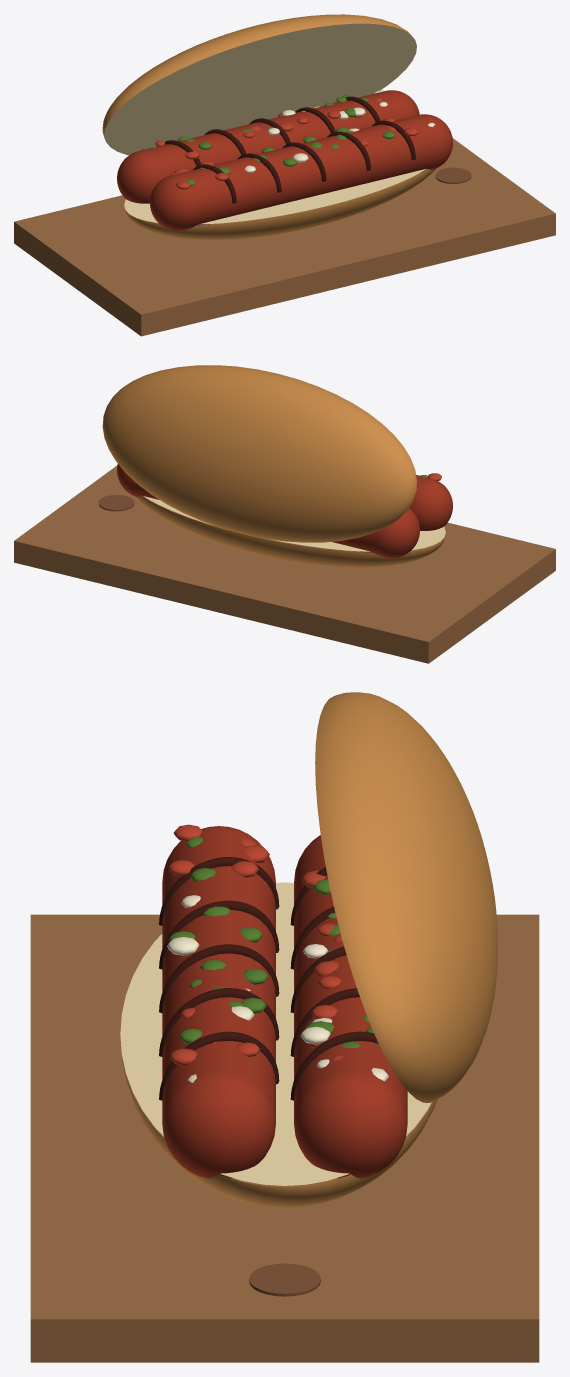
The model's file is chori-doble.glb.
3 renders of one model, top to bottom at view 1: azimuth 30°, elevation 25°; view 2: azimuth 150°, elevation 25°; view 3: azimuth 270°, elevation 25°, orthographic. The views are drawn at different scales.
Visible parts, largest first — view 1: tabla, chorizo (×2), object 6, object 3, object 5, object 4, object 2; view 2: tabla, object 5, object 3, chorizo (×2), object 4, object 2; view 3: tabla, object 5, chorizo (×2), object 4, object 3, object 2, object 62, object 61, object 63, object 64, object 60, object 12.
Part boxes in pixels (box(x1,y1,x2,y2)): tabla: box(14, 138, 555, 336); chorizo (×2): box(117, 90, 452, 231); object 6: box(104, 23, 416, 155); object 3: box(125, 169, 435, 240); object 5: box(102, 14, 409, 139); object 4: box(124, 168, 426, 224); object 2: box(435, 167, 471, 183); tabla: box(14, 465, 555, 663); object 5: box(102, 365, 416, 542); object 3: box(134, 496, 445, 567); chorizo (×2): box(117, 463, 452, 558); object 4: box(143, 496, 445, 551); object 2: box(98, 495, 134, 511); tabla: box(30, 914, 539, 1362); object 5: box(315, 692, 497, 1102); chorizo (×2): box(162, 826, 407, 1178); object 4: box(120, 882, 431, 1185); object 3: box(122, 1057, 437, 1207); object 2: box(249, 1263, 320, 1296); object 62: box(159, 944, 279, 1013); object 61: box(159, 900, 279, 969); object 63: box(159, 988, 279, 1056); object 64: box(159, 1031, 279, 1100); object 60: box(159, 857, 279, 925); object 12: box(290, 1031, 377, 1100).
Size of the model in its own units: 0.32 by 0.1483 by 0.17.
